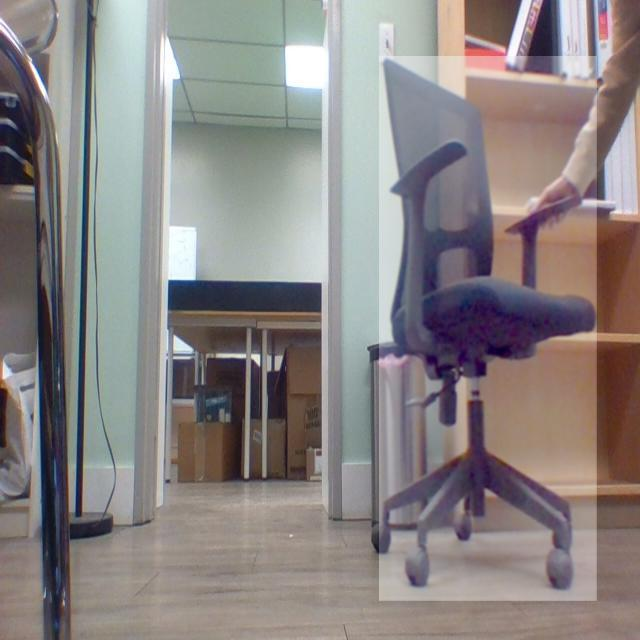chair: (363, 51, 600, 607)
